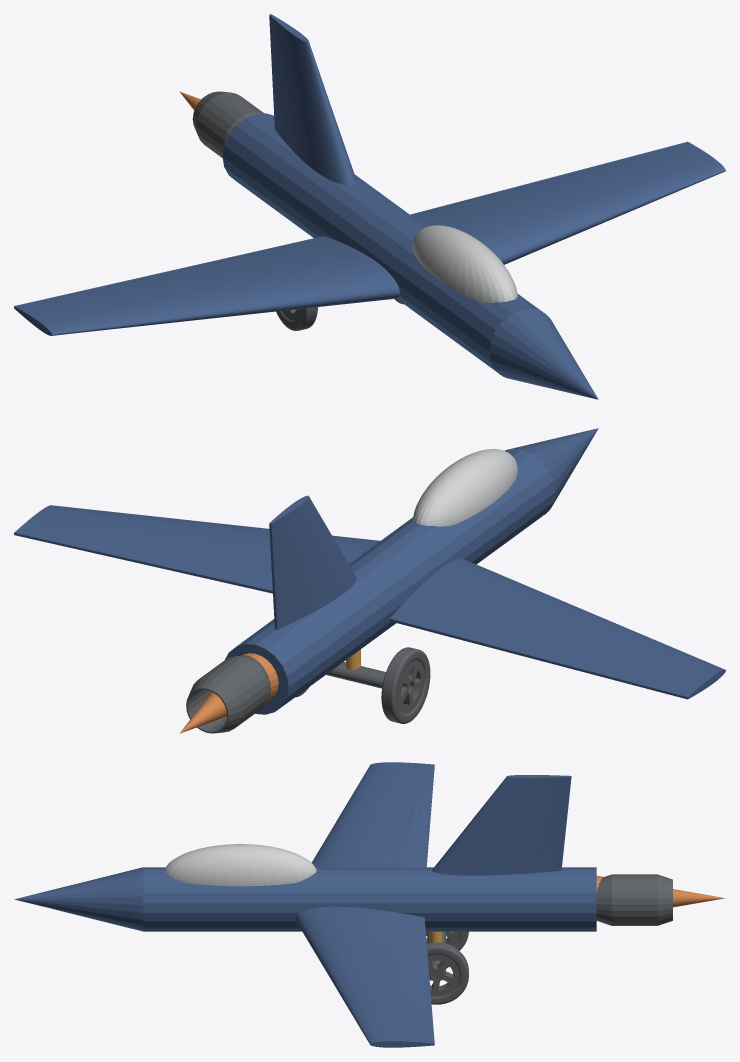
The model's file is Powerful Hillar (2).glb.
3 renders of one model, top to bottom at view 1: azimuth 30°, elevation 25°; view 2: azimuth 150°, elevation 25°; view 3: azimuth 270°, elevation 25°, orthographic. The views are drawn at different scales.
Visible parts, largest first — view 1: Mesh_Mesh_head_geo.001_lambert2SG.001; view 2: Mesh_Mesh_head_geo.001_lambert2SG.001; view 3: Mesh_Mesh_head_geo.001_lambert2SG.001.
Part boxes in pixels (x1,y1,x2,y2): Mesh_Mesh_head_geo.001_lambert2SG.001: [14, 14, 725, 399]; Mesh_Mesh_head_geo.001_lambert2SG.001: [14, 428, 725, 733]; Mesh_Mesh_head_geo.001_lambert2SG.001: [14, 762, 725, 1047].
Bounding box in the file's own units: 102 × 34.87 × 110.
